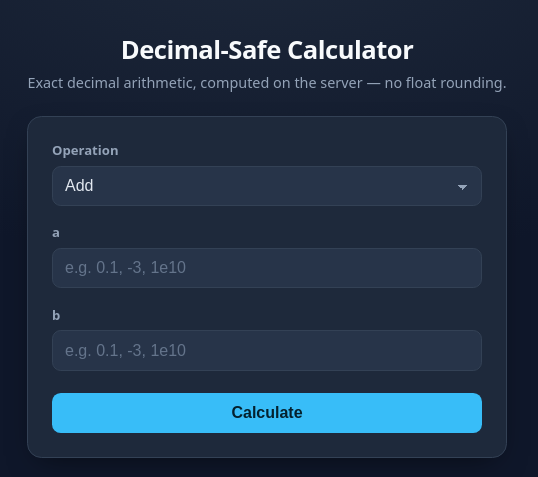
it: <App /> › hides operand b for the unary sqrt operation
expect the field labelled "b" is shown: met, box [52, 330, 482, 371]
Select "Square root" in the dropdown labelled "Operation" at (267, 186), box [52, 166, 482, 206]
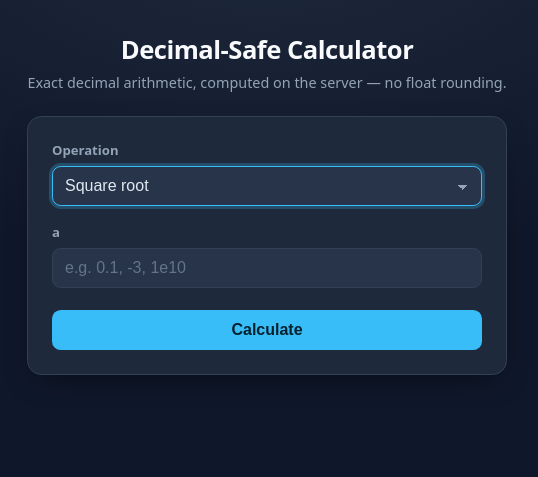
expect the field labelled "a" is shown: met, box [52, 248, 482, 288]
expect the label labelled "b" is gone: met
